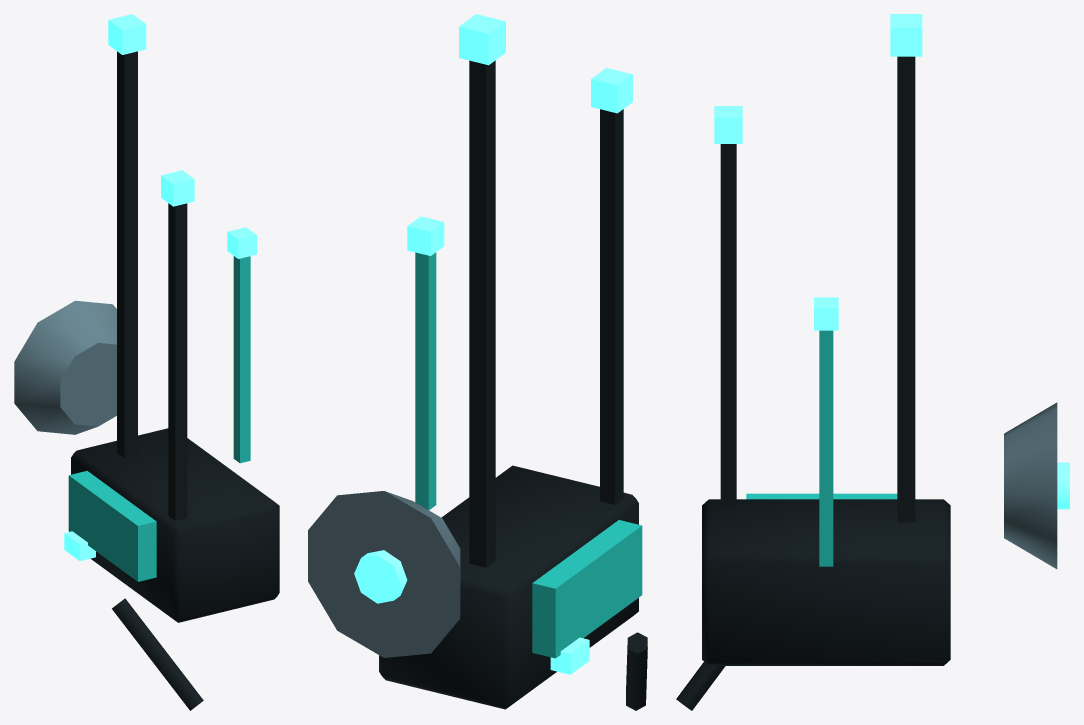
The model's file is invocador_antenas.glb.
3 views of the same model, side by side, from view 1: azimuth 30°, elevation 25°; view 2: azimuth 150°, elevation 25°; view 3: azimuth 270°, elevation 25° (orthographic). The views are drawn at different scales.
Parts seen in each view (by area): view 1: invocador_antenas; view 2: invocador_antenas; view 3: invocador_antenas.
Boxes of the visible parts, x1=… form: invocador_antenas: x1=14, y1=14, x2=279, y2=710; invocador_antenas: x1=308, y1=14, x2=647, y2=710; invocador_antenas: x1=676, y1=14, x2=1069, y2=710.
Size of the model in its own units: 0.1226 by 0.4382 by 0.2215.
